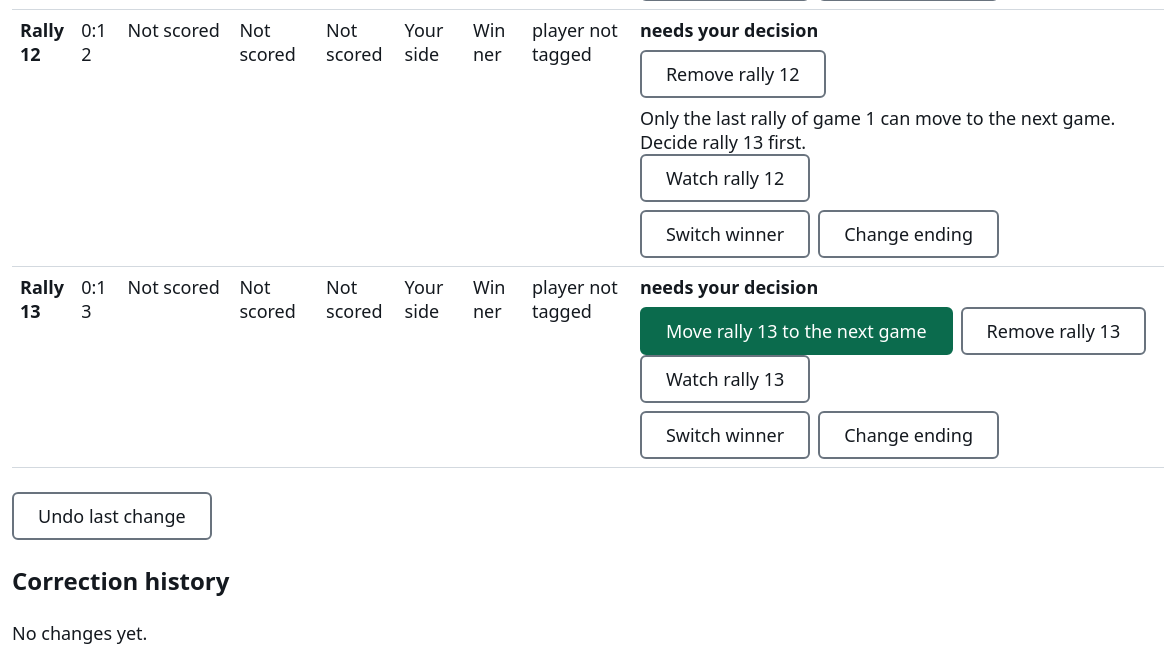
Test: C3-03: "Move to the next game" only on the latest kept rally › after the latest rally moves, the next one back is offered the move
(page scrolled)
Click the button "Move rally 13 to the next game" at (796, 331), box [640,307,953,355]
(page scrolled)
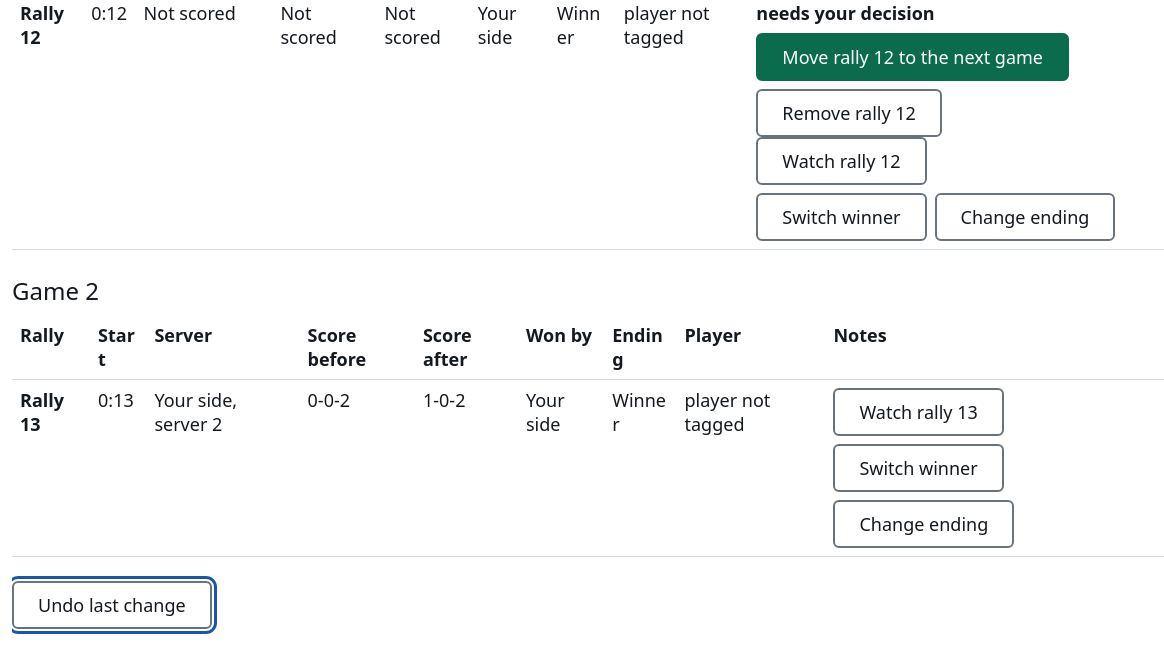
Check: the button "Move rally 12 to the next game" is shown, box [756,33,1069,81]
